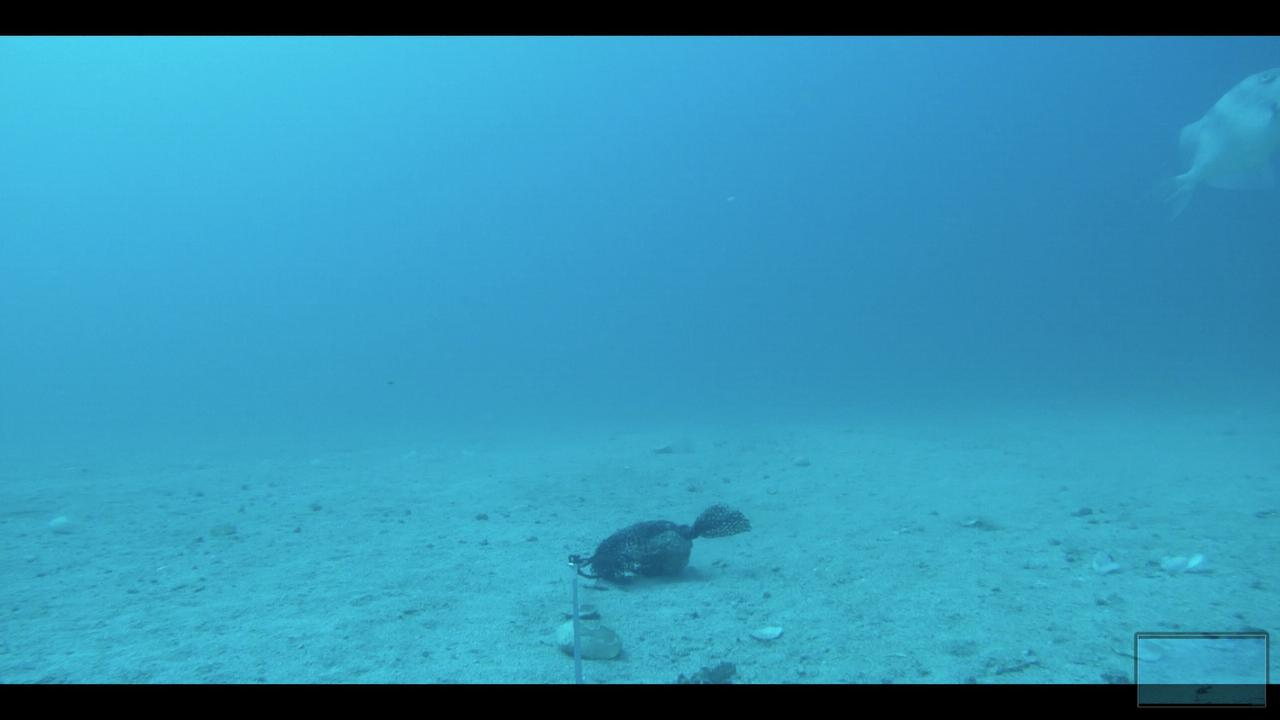balistes: (1147, 61, 1278, 220)
